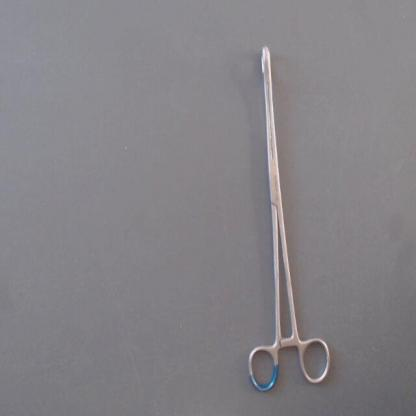Sponge Forceps: (241, 36, 337, 396)
